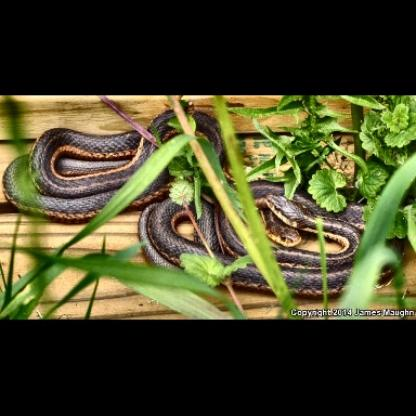Snake: (10, 92, 394, 298)
